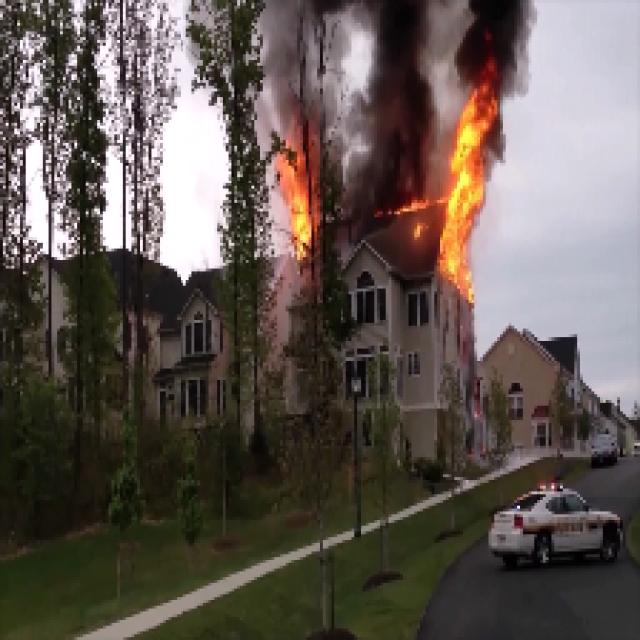fire: (440, 90, 501, 302), (272, 136, 317, 253)
smoke: (252, 2, 542, 79), (327, 82, 426, 248)
